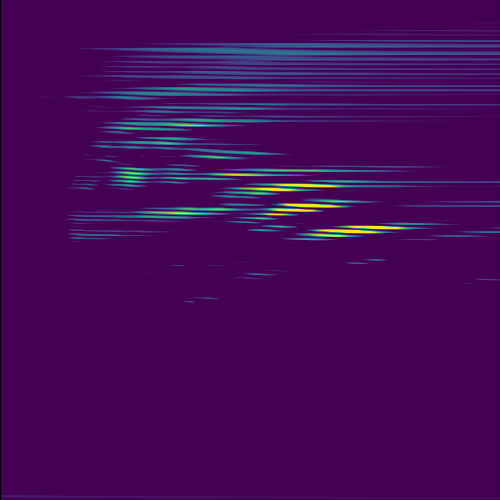semblance: (289, 219, 414, 246), (252, 194, 363, 221), (241, 177, 342, 201)
